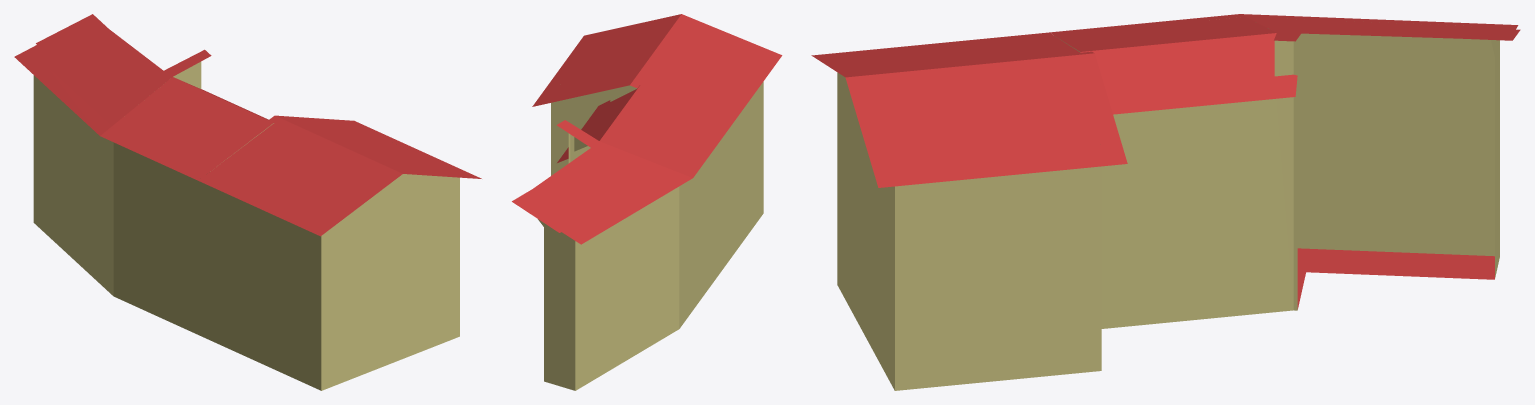
The picture shows the model from 3 angles, left to right: view 1: azimuth 30°, elevation 25°; view 2: azimuth 150°, elevation 25°; view 3: azimuth 270°, elevation 25°; orthographic projection. The views are drawn at different scales.
Size of the model in its own units: 13.42 by 24.33 by 10.53.
